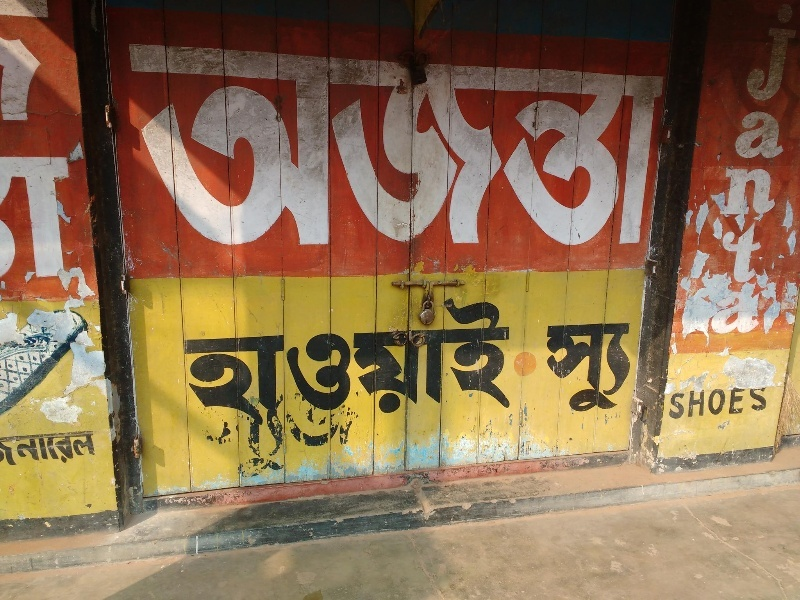text: (753, 25, 768, 355), (769, 25, 784, 355), (785, 25, 800, 355), (1, 2, 16, 302), (17, 2, 32, 302), (33, 2, 48, 302), (49, 2, 64, 302), (65, 2, 76, 302), (129, 42, 144, 255), (145, 42, 160, 255), (161, 42, 176, 255), (177, 42, 192, 255), (193, 42, 208, 255), (209, 42, 224, 255), (225, 42, 240, 255), (241, 42, 256, 255), (257, 42, 272, 255), (273, 42, 288, 255), (289, 42, 304, 255), (305, 42, 320, 255), (321, 42, 336, 255), (337, 42, 352, 255), (353, 42, 368, 255), (369, 42, 384, 255), (385, 42, 400, 255), (401, 42, 416, 255), (417, 42, 432, 255), (433, 42, 448, 255), (449, 42, 464, 255), (465, 42, 480, 255), (481, 42, 496, 255), (497, 42, 512, 255), (513, 42, 528, 255), (529, 42, 544, 255), (545, 42, 560, 255), (561, 42, 576, 255), (577, 42, 592, 255), (593, 42, 608, 255), (609, 42, 624, 255), (625, 42, 640, 255), (641, 42, 656, 255), (744, 25, 752, 355), (657, 42, 667, 255), (193, 297, 208, 429), (209, 297, 224, 429), (225, 297, 240, 429), (241, 297, 256, 429), (257, 297, 272, 429), (273, 297, 288, 429), (289, 297, 304, 429), (305, 297, 320, 429), (321, 297, 336, 429), (337, 297, 352, 429), (353, 297, 368, 429), (369, 297, 384, 429), (385, 297, 400, 429), (401, 297, 416, 429), (417, 297, 432, 429), (433, 297, 448, 429), (449, 297, 464, 429), (465, 297, 480, 429), (481, 297, 496, 429), (497, 297, 511, 429), (179, 297, 192, 429), (17, 309, 32, 412), (33, 309, 48, 412), (49, 309, 64, 412), (65, 309, 80, 412), (561, 324, 576, 410), (577, 324, 592, 410), (593, 324, 608, 410), (609, 324, 624, 410), (81, 309, 93, 412), (547, 324, 560, 410), (6, 309, 16, 412), (241, 416, 256, 475), (257, 416, 272, 475), (273, 416, 288, 475), (289, 416, 304, 475), (305, 416, 320, 475), (321, 416, 336, 475), (337, 416, 352, 475), (353, 416, 368, 475), (369, 416, 384, 475), (226, 416, 240, 475), (385, 416, 396, 475), (1, 431, 16, 468), (17, 431, 32, 468), (33, 431, 48, 468), (49, 431, 64, 468), (65, 431, 80, 468), (81, 431, 96, 468), (625, 324, 631, 410), (673, 388, 688, 420), (689, 388, 704, 420), (705, 388, 720, 420), (721, 388, 736, 420), (737, 388, 752, 420), (753, 388, 768, 420), (670, 388, 672, 420), (97, 431, 98, 468)
